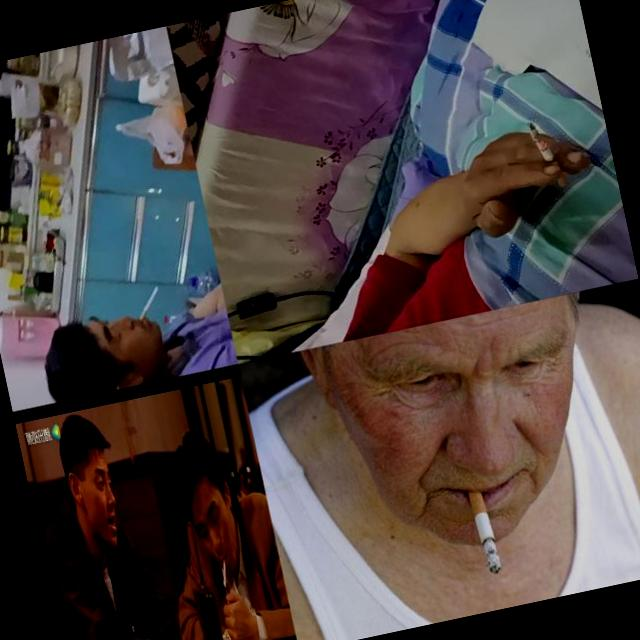cigarette: (461, 478, 508, 583), (526, 116, 570, 192), (133, 285, 165, 321), (216, 555, 232, 588)
